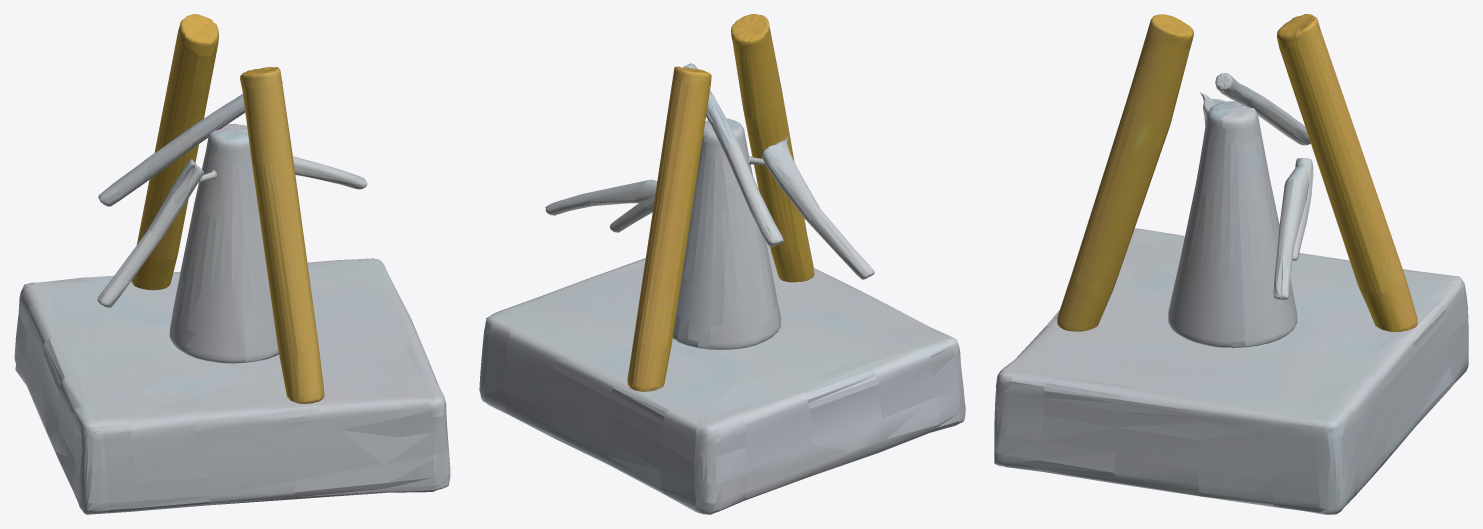
The model's file is drilling-rig.glb.
3 views of the same model, side by side, from view 1: azimuth 30°, elevation 25°; view 2: azimuth 150°, elevation 25°; view 3: azimuth 270°, elevation 25° (orthographic). The views are drawn at different scales.
Bounding box in the file's own units: 1 × 0.9297 × 1.
Materials: 1 (1 with a texture image).
